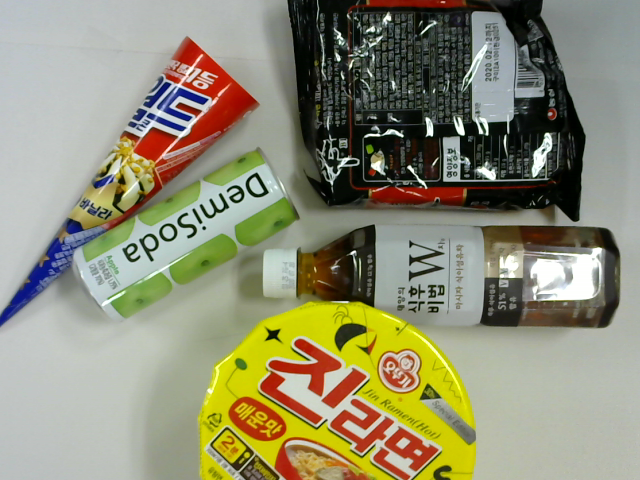Demisoda_Apple_Can_250ml: (78, 147, 293, 306)
Jinlamyeon_Hot_Taste_Large_Cup: (202, 303, 471, 480)
Post-meal_recipe_W_tea_500ml: (265, 220, 624, 329)
Sinramen_Black: (306, 1, 565, 204)
World_Cone_Banila: (1, 29, 258, 325)
